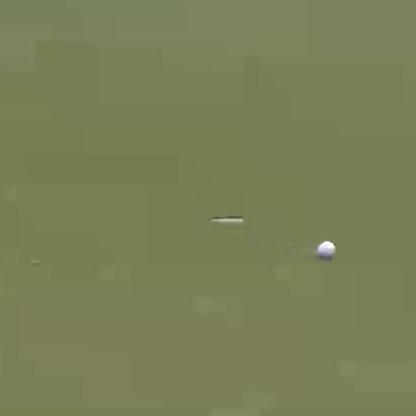golfball: (314, 238, 337, 259)
